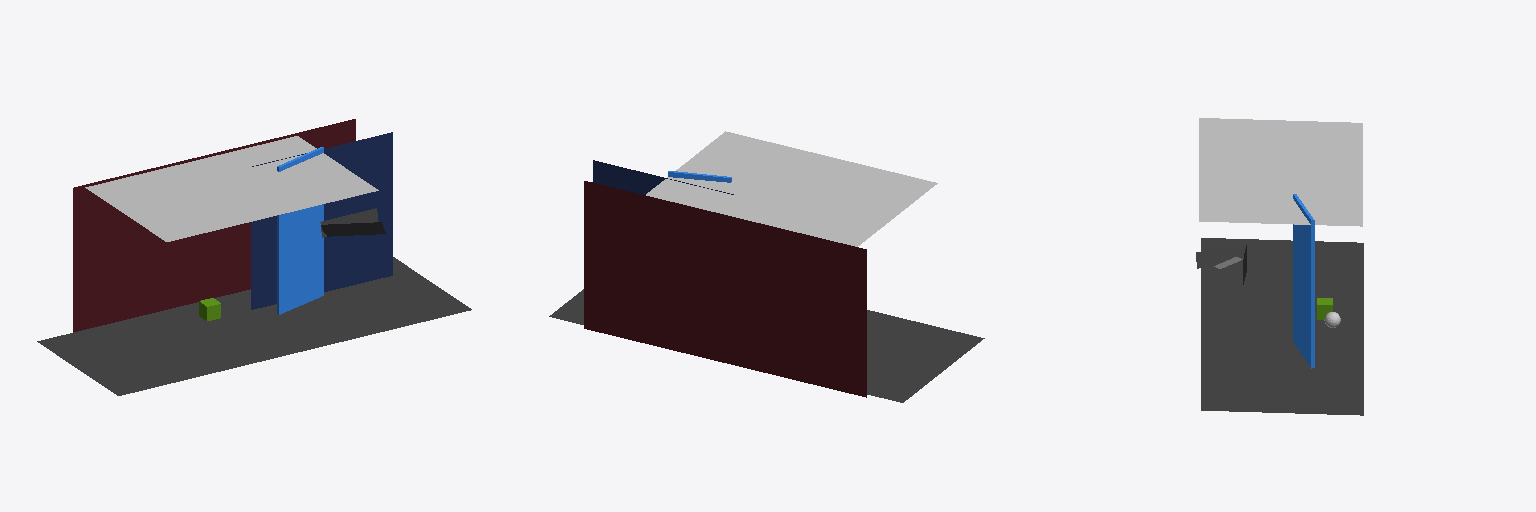
File: wallpaper.obj
3 renders of one model, left to right at view 1: azimuth 30°, elevation 25°; view 2: azimuth 150°, elevation 25°; view 3: azimuth 270°, elevation 25°, orthographic.
Parts seen in each view (by area): view 1: ground, background, sky, wall, door, Plane.001, Plane; view 2: background, sky, ground, wall; view 3: ground, sky, door, Plane.001.
Boxes of the visible parts, <box> form: ground: <box>37,257,471,395</box>; background: <box>73,119,355,332</box>; sky: <box>85,136,378,241</box>; wall: <box>251,132,392,309</box>; door: <box>277,147,323,314</box>; Plane.001: <box>321,222,385,236</box>; Plane: <box>320,208,378,237</box>; background: <box>584,181,866,397</box>; sky: <box>646,131,937,246</box>; ground: <box>549,289,984,402</box>; wall: <box>593,160,733,194</box>; ground: <box>1201,238,1363,415</box>; sky: <box>1199,118,1362,226</box>; door: <box>1293,194,1314,368</box>; Plane.001: <box>1196,245,1243,268</box>.
Size of the model in its own units: 50 by 20.62 by 20.61.